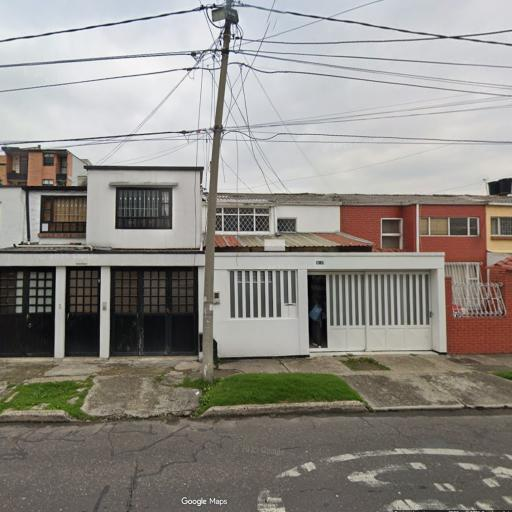Casa: (0, 145, 204, 368), (213, 192, 449, 358)
postes: (196, 0, 240, 396)
